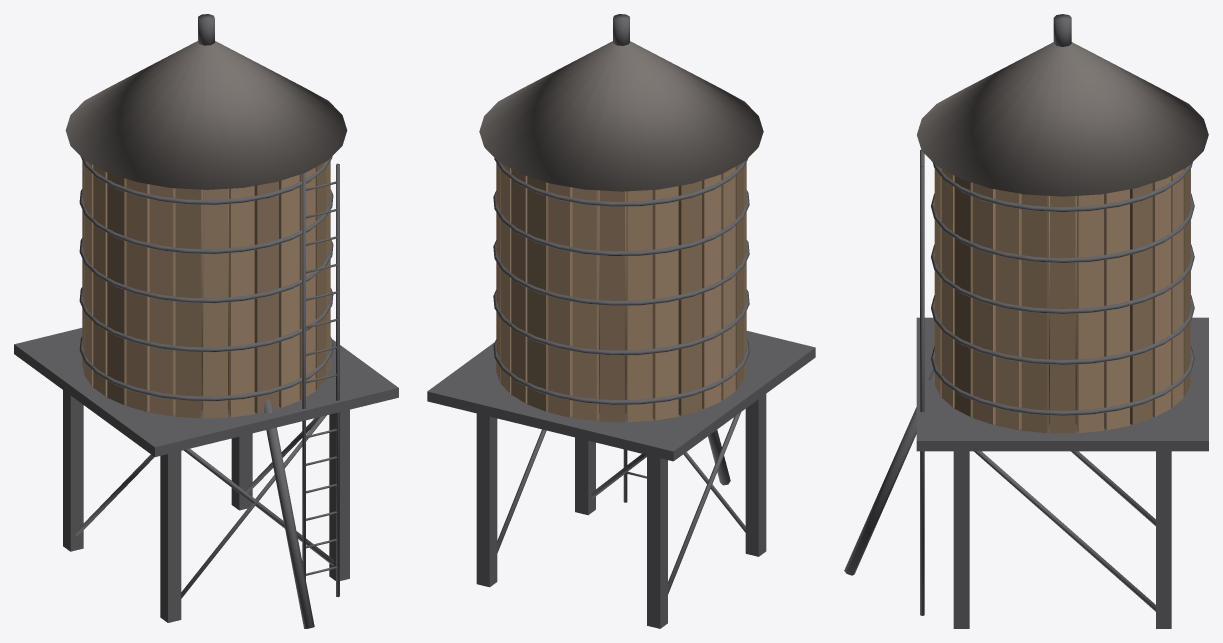
File: water_tank.glb
The picture shows the model from 3 angles, left to right: view 1: azimuth 30°, elevation 25°; view 2: azimuth 150°, elevation 25°; view 3: azimuth 270°, elevation 25°; orthographic projection. The views are drawn at different scales.
Parts seen in each view (by area): view 1: water_tank; view 2: water_tank; view 3: water_tank.
Part boxes in pixels (x1,y1,x2,y2): water_tank: (14,14,398,628); water_tank: (427,14,815,628); water_tank: (844,14,1208,628).
Bounding box in the file's own units: 2.6 × 5.55 × 3.25.
